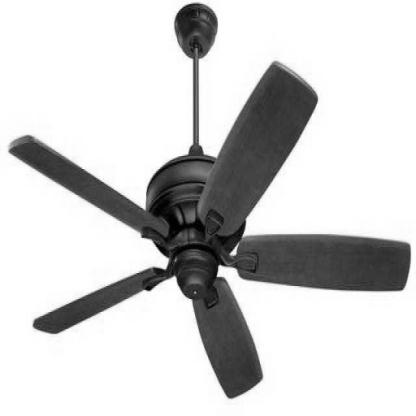ceiling-fan: (7, 1, 411, 398)
